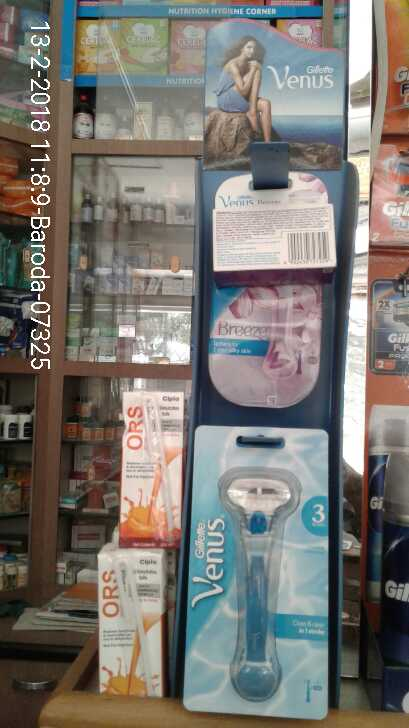venus: (178, 417, 337, 721)
